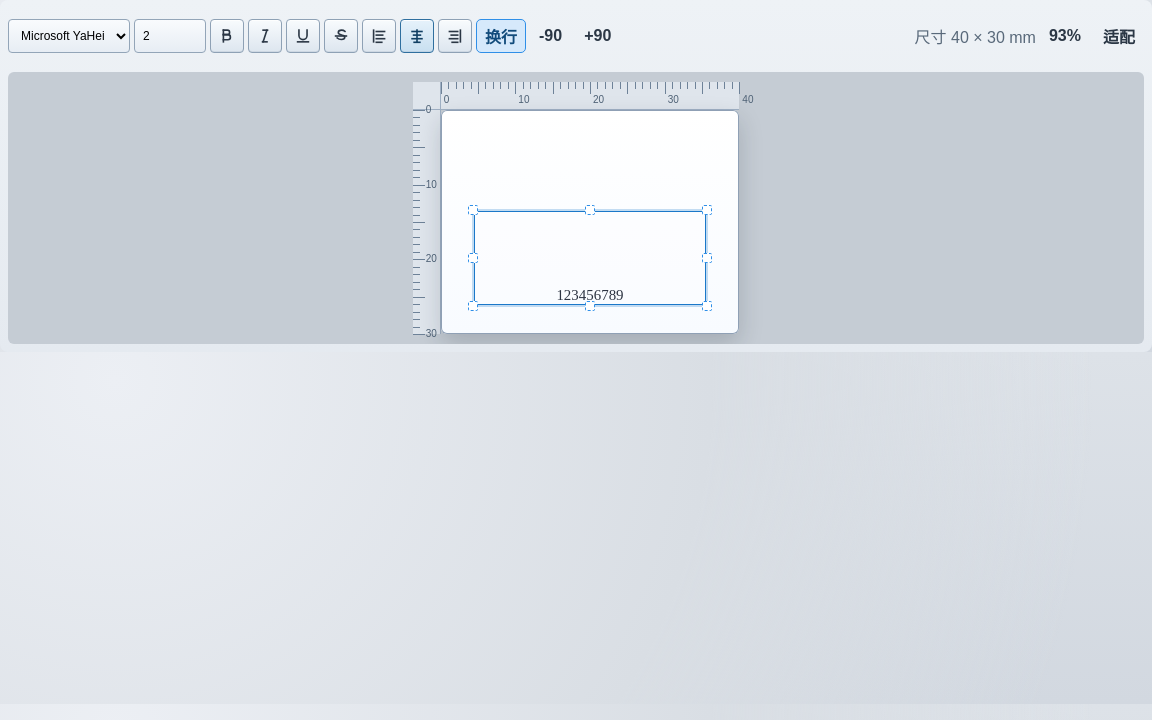
canvas inline editing › fits a live barcode render to its element while the value changes
This screenshot has width=1152, height=720.
Double-click the element with class "canvas-element" at (590, 258), box [474, 211, 706, 305]
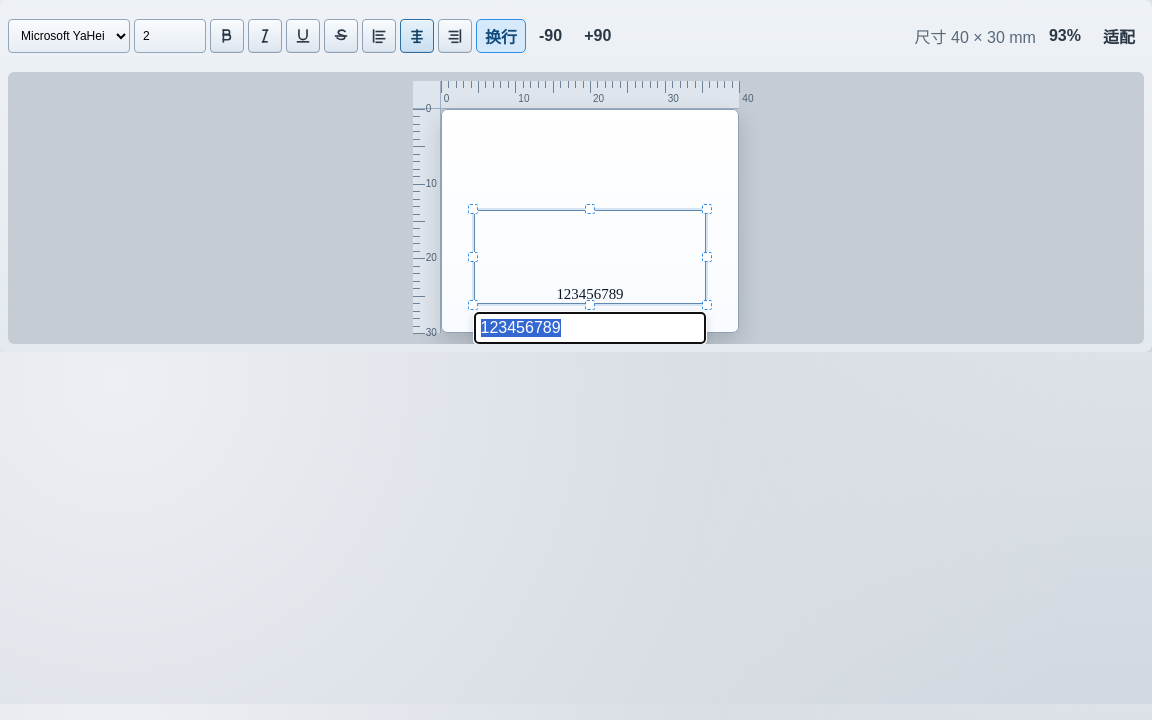
Replace the text in the field named "编辑内容（实时预览）" with "ABC123456789XYZ" at (590, 328), box [474, 312, 706, 344]
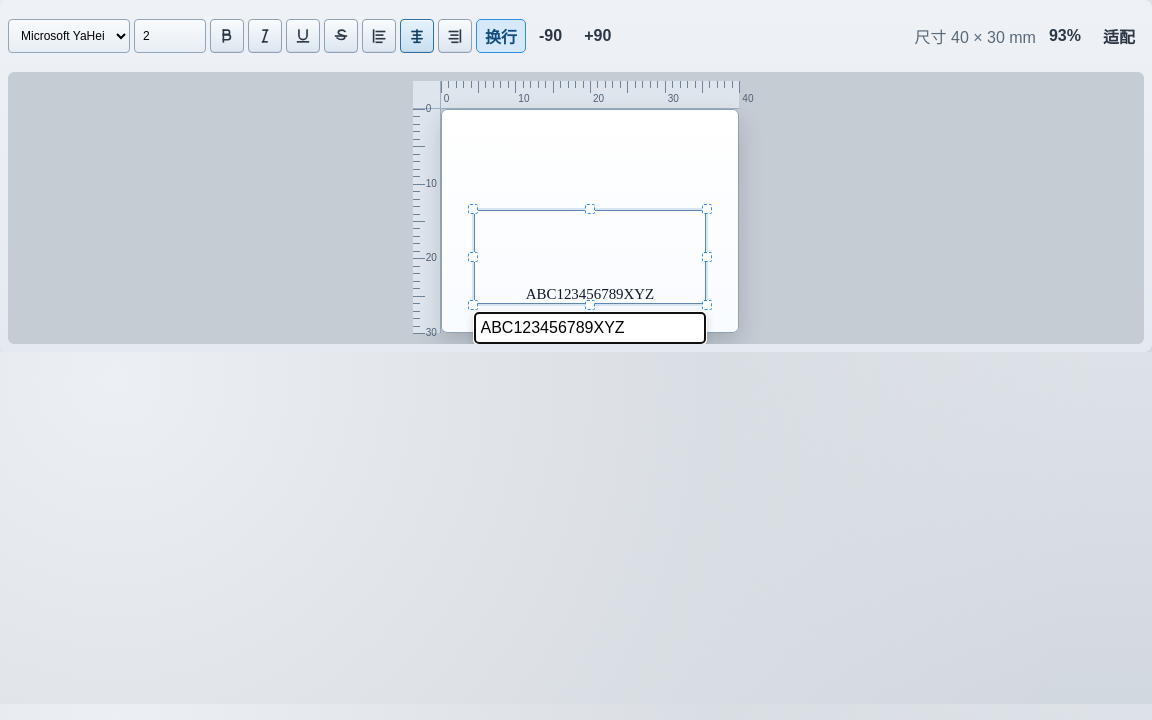
Now the text with class "barcode-preview-text" reads "ABC123456789XYZ", box [526, 286, 654, 302]
